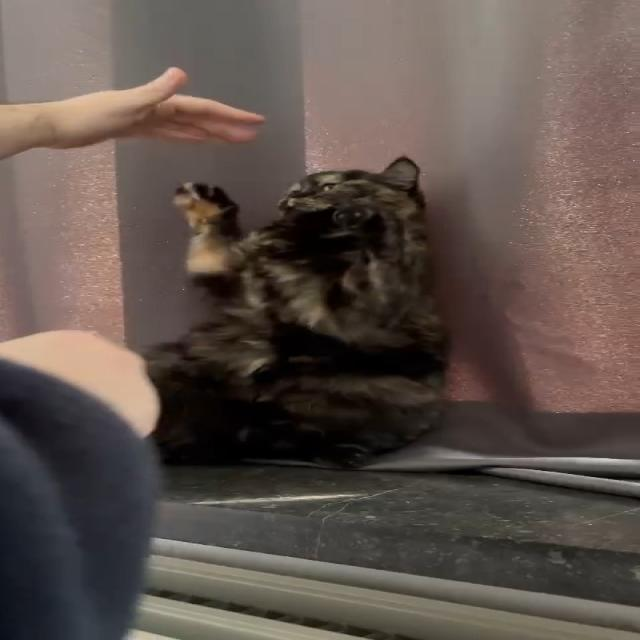authorized: (139, 154, 452, 468)
